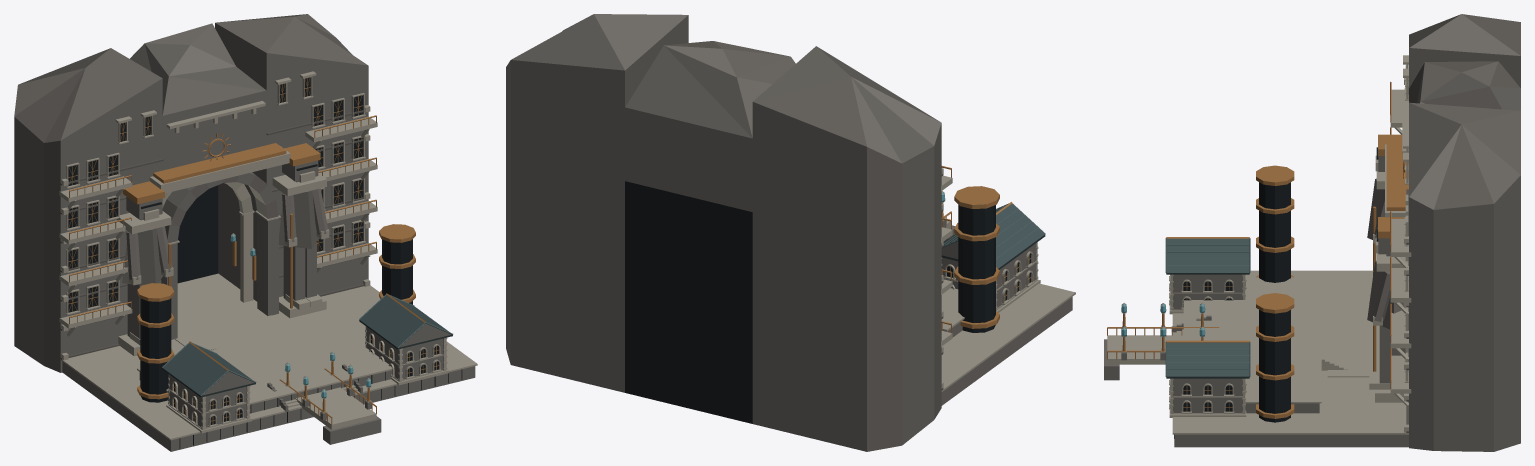
The model's file is deep-city.glb.
3 views of the same model, side by side, from view 1: azimuth 30°, elevation 25°; view 2: azimuth 150°, elevation 25°; view 3: azimuth 270°, elevation 25° (orthographic). The views are drawn at different scales.
Visible parts, largest first — view 1: cut-face, gallery-terraces, deep-portal, gallery-terraces-roof, chasm-bridge; view 2: cut-face, gallery-terraces, gallery-terraces-roof; view 3: cut-face, gallery-terraces, gallery-terraces-roof, deep-portal, chasm-bridge.
Boxes of the visible parts, x1,y1,x2,y2 form: cut-face: (14,14,477,451); gallery-terraces: (59,93,448,433); deep-portal: (117,133,329,356); gallery-terraces-roof: (162,293,453,397); chasm-bridge: (279,351,381,444); cut-face: (506,14,1075,451); gallery-terraces: (941,166,1040,346); gallery-terraces-roof: (941,202,1045,269); cut-face: (1171,14,1520,451); gallery-terraces: (1169,65,1411,422); gallery-terraces-roof: (1165,237,1250,378); deep-portal: (1367,134,1408,402); chasm-bridge: (1104,303,1219,380).
Size of the model in its own units: 36 by 29.5 by 37.3.
